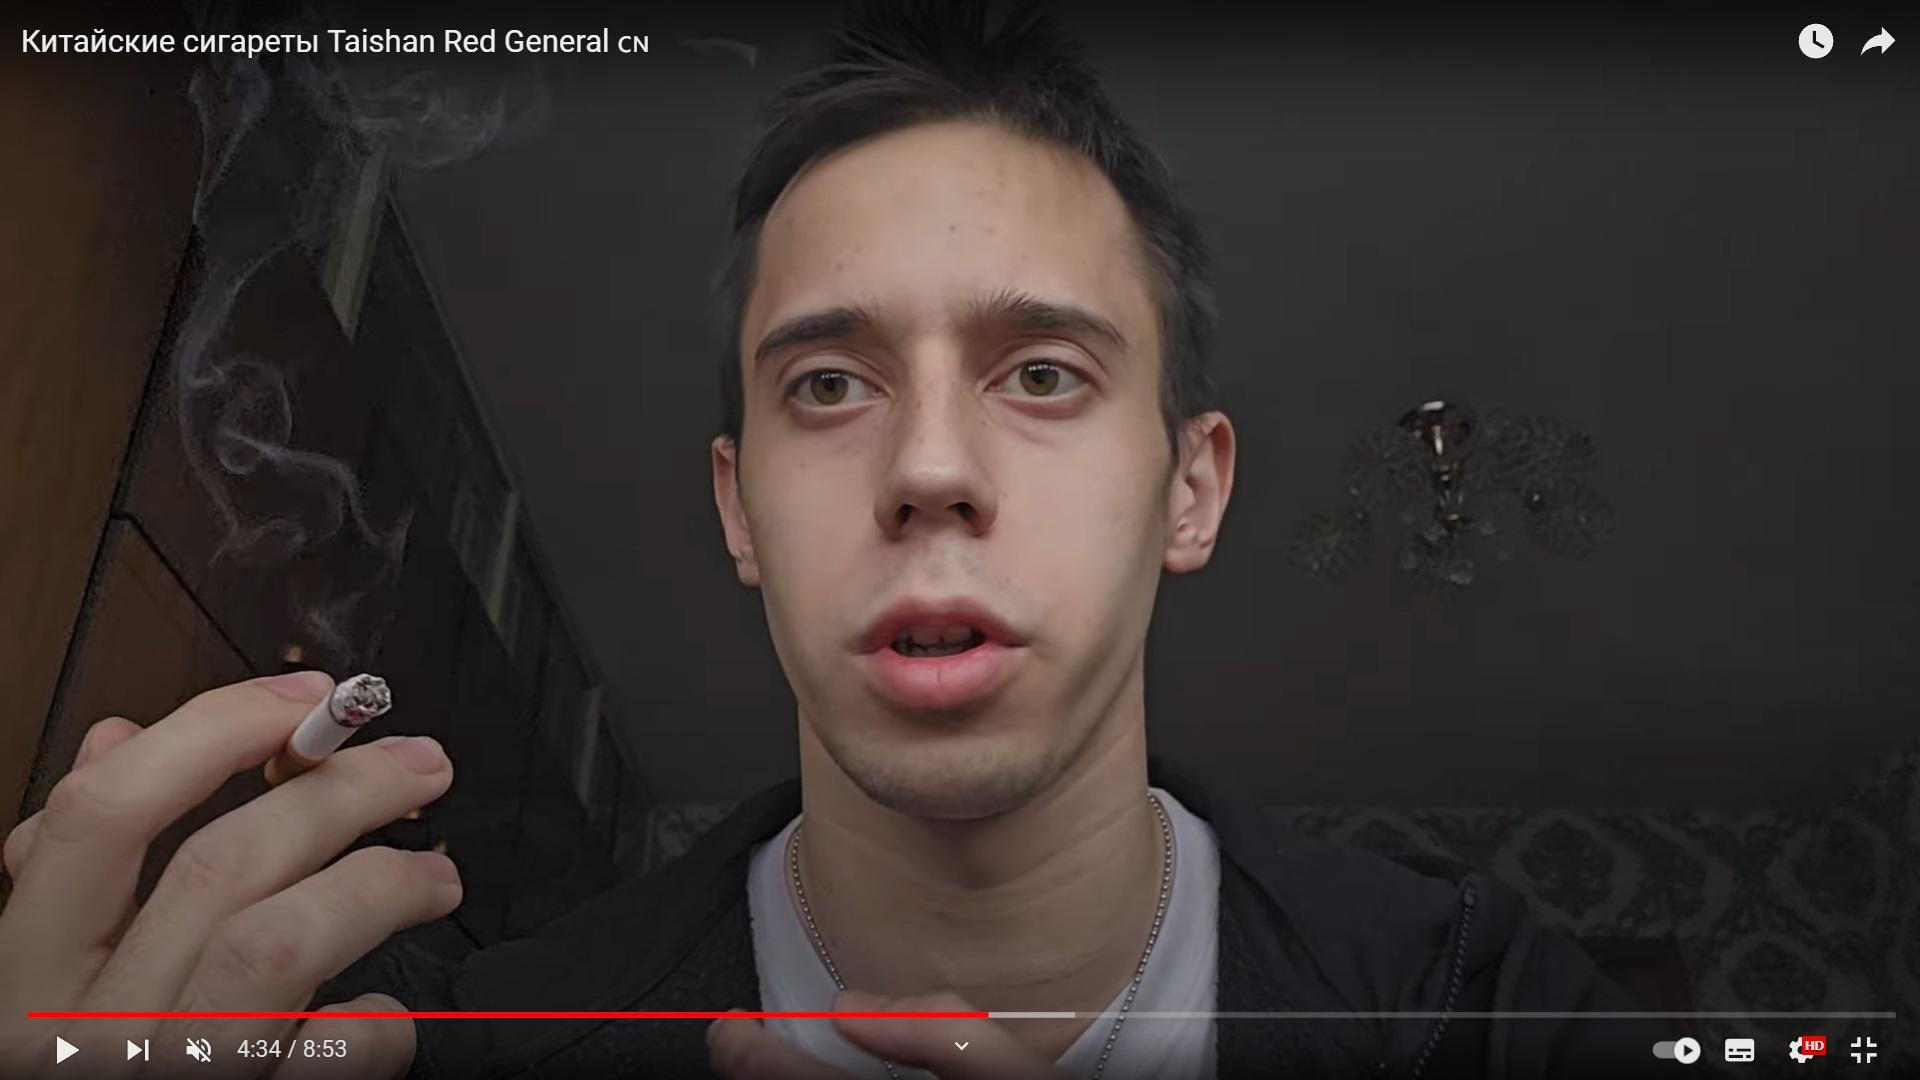cigarette: (264, 673, 392, 789)
